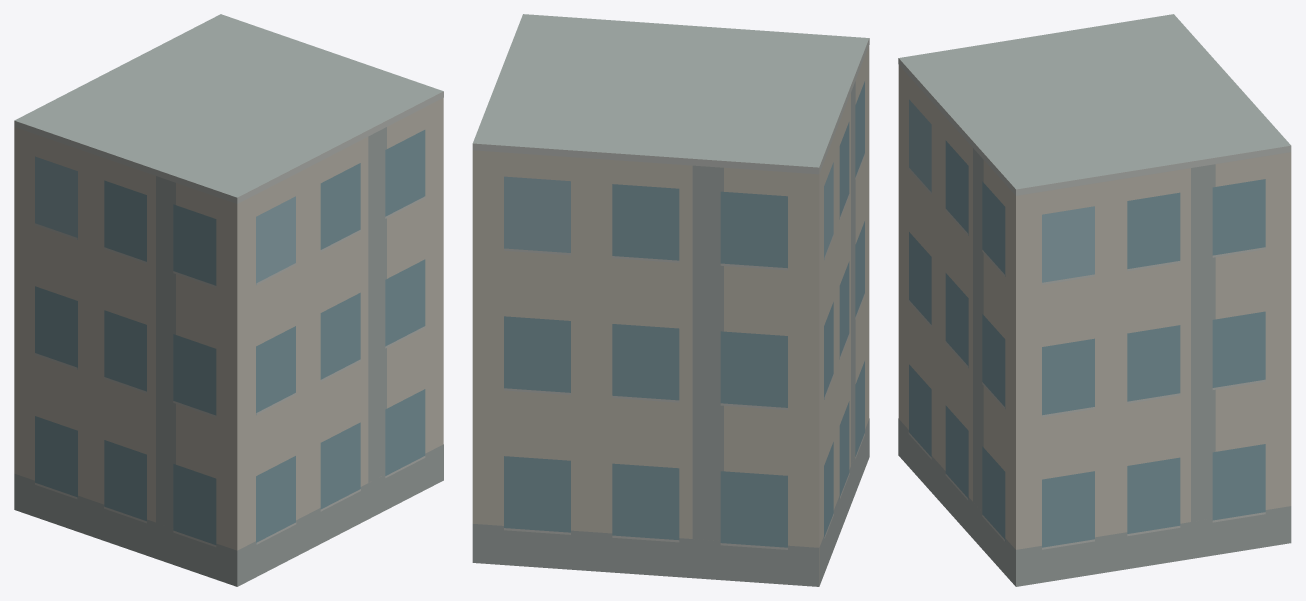
File: residential-c8478439-ce47-4d3d-8a21-ca390f480e22.glb
3 renders of one model, left to right at view 1: azimuth 30°, elevation 25°; view 2: azimuth 150°, elevation 25°; view 3: azimuth 270°, elevation 25°, orthographic. The views are drawn at different scales.
Visible parts, largest first — view 1: residential-c8478439-ce47-4d3d-8a21-ca390f480e22.tmp; view 2: residential-c8478439-ce47-4d3d-8a21-ca390f480e22.tmp; view 3: residential-c8478439-ce47-4d3d-8a21-ca390f480e22.tmp.
Boxes of the visible parts, x1,y1,x2,y2 form: residential-c8478439-ce47-4d3d-8a21-ca390f480e22.tmp: (14, 14, 443, 586); residential-c8478439-ce47-4d3d-8a21-ca390f480e22.tmp: (472, 14, 869, 586); residential-c8478439-ce47-4d3d-8a21-ca390f480e22.tmp: (898, 14, 1291, 586).
Bounding box in the file's own units: 14.21 × 15 × 13.45.
